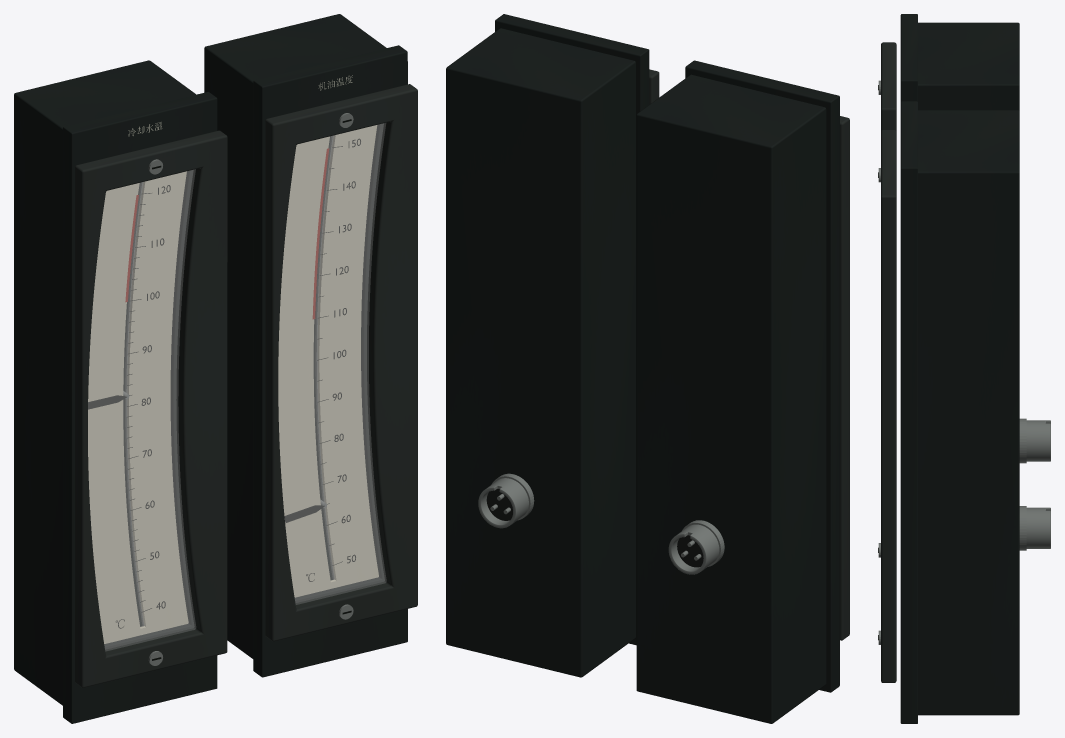
File: water_oil_temperature_gauges_refined.glb
3 views of the same model, side by side, from view 1: azimuth 30°, elevation 25°; view 2: azimuth 150°, elevation 25°; view 3: azimuth 270°, elevation 25° (orthographic). The views are drawn at different scales.
Parts seen in each view (by area): view 1: Water_Fixed_Protective_Glass, Oil_Fixed_Protective_Glass, Water_Fixed_Raised_Metal_Bezel, Oil_Fixed_Raised_Metal_Bezel, Water_Fixed_Scale_Window, Oil_Fixed_Scale_Window, Water_Fixed_Rear_Housing, Oil_Fixed_Rear_Housing, Oil_Fixed_Front_Frame, Water_Fixed_Front_Frame, Oil_Fixed_Curved_Guide_Rail.001, Water_Fixed_Curved_Guide_Rail.001; view 2: Water_Fixed_Rear_Housing, Oil_Fixed_Rear_Housing, Water_Fixed_Front_Frame, Water_Fixed_Raised_Metal_Bezel, Oil_Fixed_Front_Frame, Water_RPM_Connector_Shell, Oil_RPM_Connector_Shell; view 3: Oil_Fixed_Rear_Housing, Oil_Fixed_Front_Frame, Water_Fixed_Rear_Housing, Oil_Fixed_Raised_Metal_Bezel, Water_Fixed_Front_Frame, Water_Fixed_Raised_Metal_Bezel, Water_RPM_Connector_Shell, Oil_RPM_Connector_Shell, Water_RPM_Rear_Connector_Seat, Oil_RPM_Rear_Connector_Seat.
Boxes of the visible parts, <box> form: Water_Fixed_Protective_Glass: <box>88,169,195,650</box>; Oil_Fixed_Protective_Glass: <box>278,123,386,604</box>; Water_Fixed_Raised_Metal_Bezel: <box>75,130,227,687</box>; Oil_Fixed_Raised_Metal_Bezel: <box>265,84,417,641</box>; Water_Fixed_Scale_Window: <box>88,171,188,643</box>; Oil_Fixed_Scale_Window: <box>278,125,378,597</box>; Water_Fixed_Rear_Housing: <box>14,60,195,705</box>; Oil_Fixed_Rear_Housing: <box>204,14,386,658</box>; Oil_Fixed_Front_Frame: <box>253,45,407,677</box>; Water_Fixed_Front_Frame: <box>63,92,217,723</box>; Oil_Fixed_Curved_Guide_Rail.001: <box>315,136,334,579</box>; Water_Fixed_Curved_Guide_Rail.001: <box>125,182,144,626</box>; Water_Fixed_Rear_Housing: <box>636,74,826,723</box>; Oil_Fixed_Rear_Housing: <box>446,28,635,677</box>; Water_Fixed_Front_Frame: <box>685,60,839,692</box>; Water_Fixed_Raised_Metal_Bezel: <box>840,116,849,640</box>; Oil_Fixed_Front_Frame: <box>495,14,649,645</box>; Water_RPM_Connector_Shell: <box>668,524,719,574</box>; Oil_RPM_Connector_Shell: <box>478,478,528,528</box>; Oil_Fixed_Rear_Housing: <box>918,110,1019,715</box>; Oil_Fixed_Front_Frame: <box>900,101,917,723</box>; Water_Fixed_Rear_Housing: <box>918,22,1019,110</box>; Oil_Fixed_Raised_Metal_Bezel: <box>881,130,896,682</box>; Water_Fixed_Front_Frame: <box>900,14,917,102</box>; Water_Fixed_Raised_Metal_Bezel: <box>881,42,896,131</box>; Water_RPM_Connector_Shell: <box>1026,420,1050,461</box>; Oil_RPM_Connector_Shell: <box>1026,507,1050,548</box>; Water_RPM_Rear_Connector_Seat: <box>1019,418,1026,463</box>; Oil_RPM_Rear_Connector_Seat: <box>1019,506,1026,550</box>.
Bounding box in the file's own units: 0.106 × 0.178 × 0.0501.
Materials: 10 (3 with a texture image).
